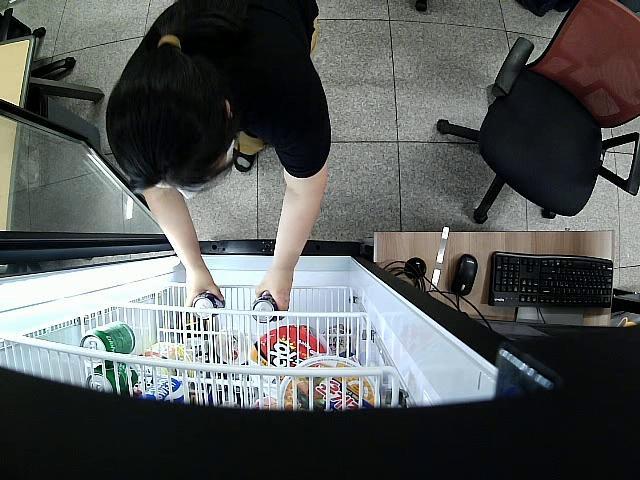00_hand: (257, 273, 291, 321), (185, 270, 225, 306)
14_welchsGrape: (192, 291, 225, 318), (249, 297, 277, 323)
